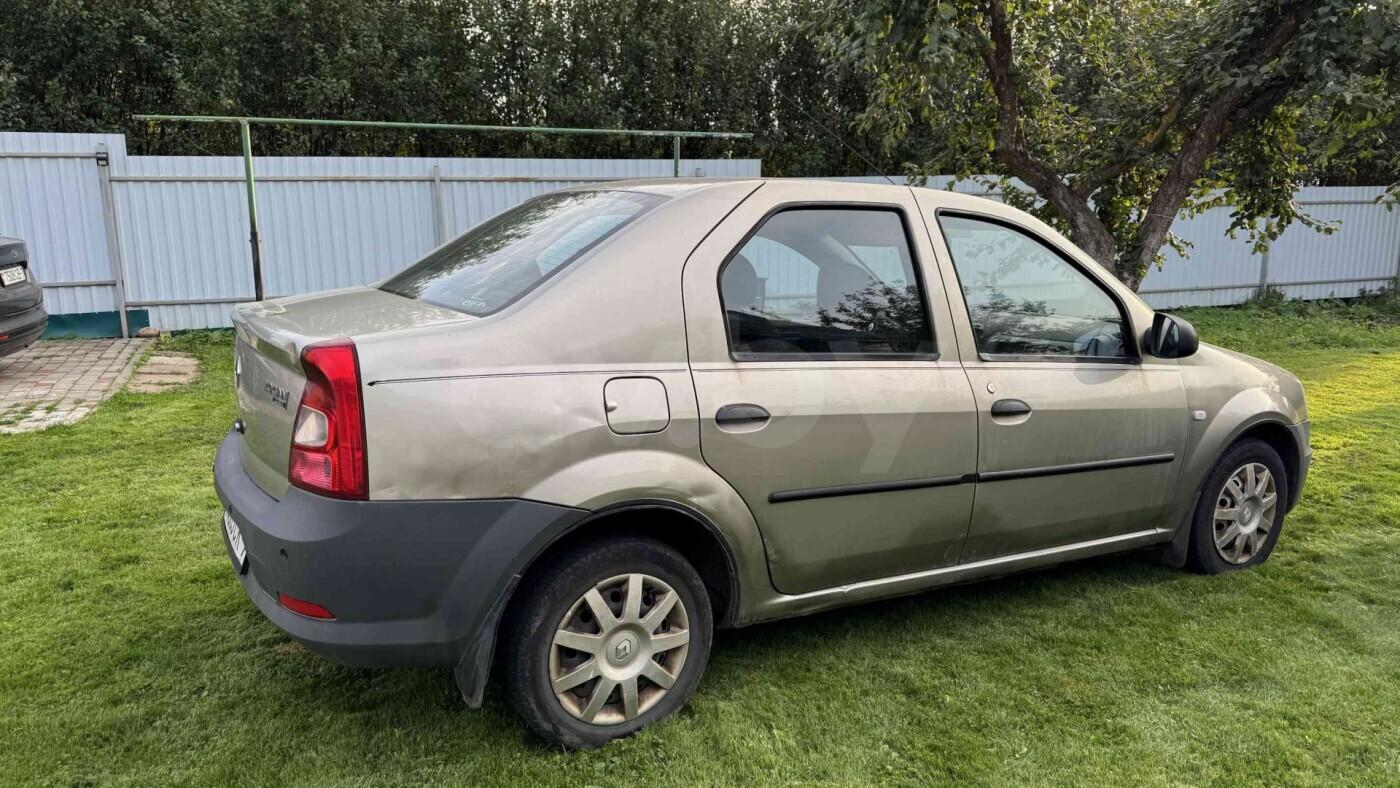Logan_2008-2015: (217, 175, 1312, 748)
